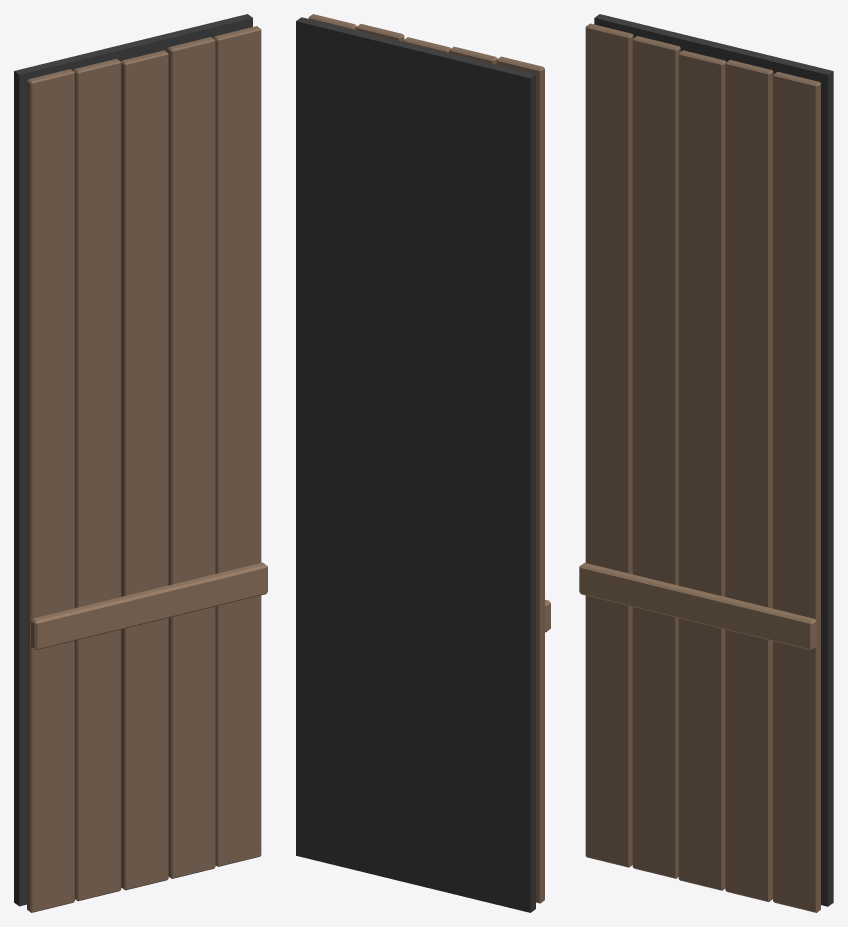
The model's file is Garage_Wall_Short.glb.
3 views of the same model, side by side, from view 1: azimuth 30°, elevation 25°; view 2: azimuth 150°, elevation 25°; view 3: azimuth 330°, elevation 25° (orthographic).
Visible parts, largest first — view 1: Garage_Wall_Short; view 2: Garage_Wall_Short; view 3: Garage_Wall_Short.
Part boxes in pixels (x1,y1,x2,y2): Garage_Wall_Short: (14,14,267,912); Garage_Wall_Short: (296,14,550,912); Garage_Wall_Short: (579,14,833,912).
Size of the model in its own units: 1 by 3.4 by 0.158.
